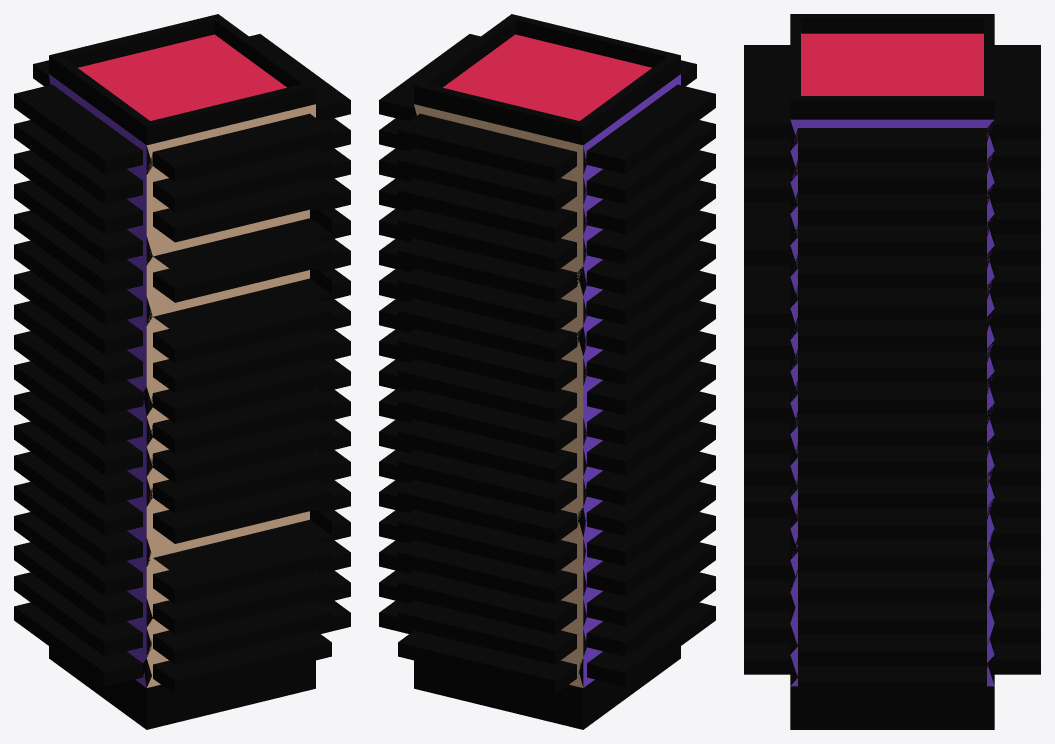
File: radiator.fbx
3 renders of one model, left to right at view 1: azimuth 30°, elevation 25°; view 2: azimuth 150°, elevation 25°; view 3: azimuth 270°, elevation 25°, orthographic. The views are drawn at different scales.
Visible parts, largest first — view 1: Cube; view 2: Cube; view 3: Cube.
Part boxes in pixels (x1=…): Cube: x1=14, y1=14, x2=350, y2=729; Cube: x1=379, y1=14, x2=715, y2=729; Cube: x1=744, y1=14, x2=1040, y2=729.
Size of the model in its own units: 291 by 680 by 291.
